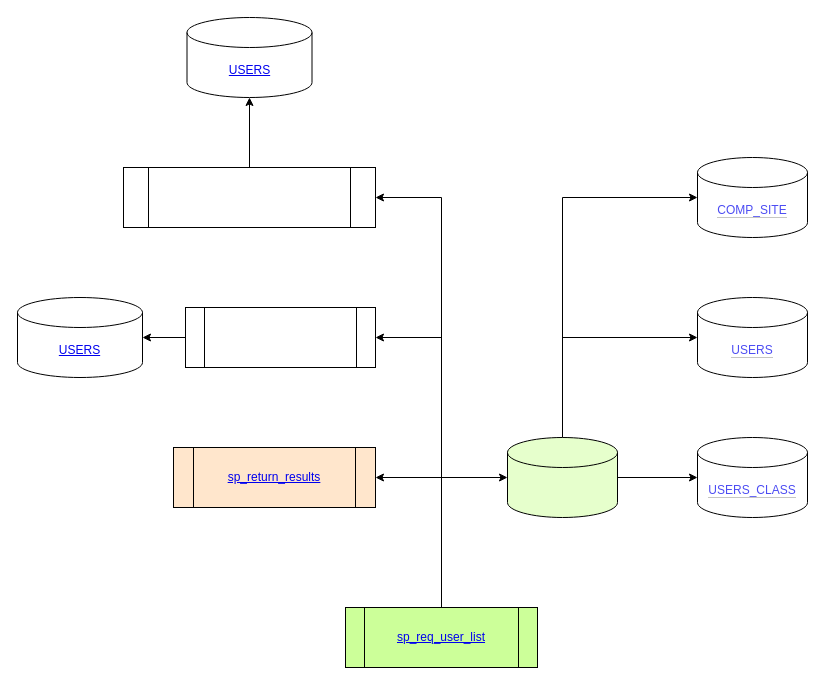
This 825x685 diagram has some shape labels left out. Each missing label, with the centre of its shape:
sp_req_user_class_by_user_reg_id: point (249, 197)
sp_req_user_exists_by_id: point (280, 337)
V_USERS: point (562, 477)
